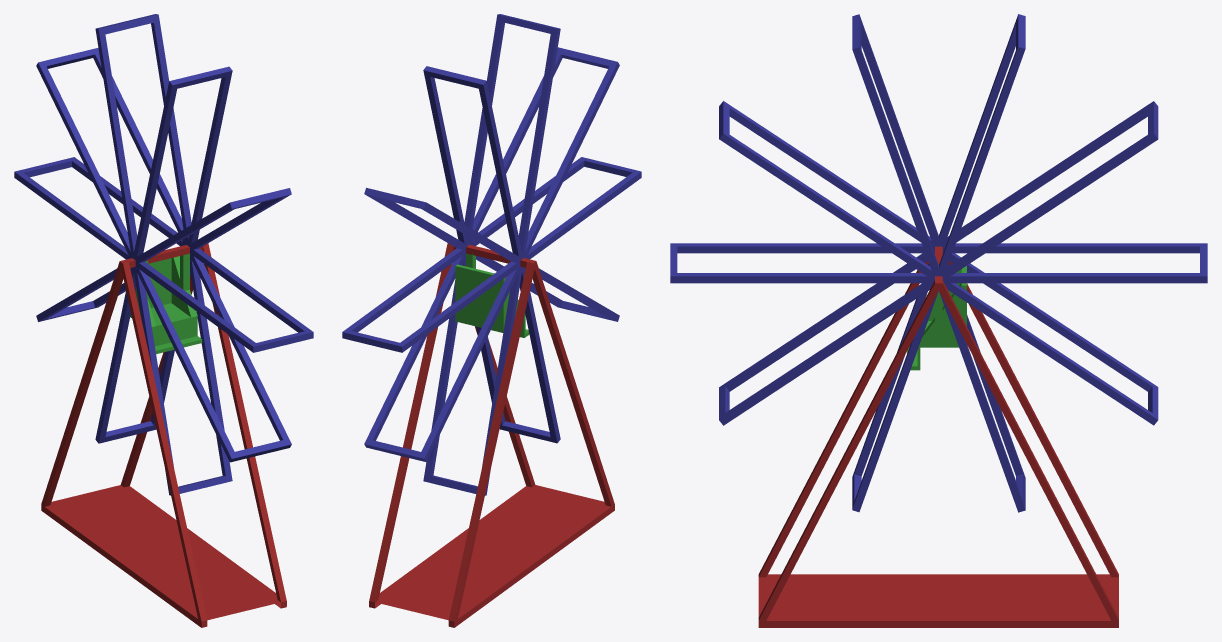
The model's file is ferris-wheel.obj.
3 views of the same model, side by side, from view 1: azimuth 30°, elevation 25°; view 2: azimuth 150°, elevation 25°; view 3: azimuth 270°, elevation 25° (orthographic). The views are drawn at different scales.
Visible parts, largest first — view 1: wheel, support, chair; view 2: wheel, support, chair; view 3: wheel, support, chair.
Part boxes in pixels (<box>): wheel: <box>14,14,313,495</box>; support: <box>41,243,286,627</box>; chair: <box>130,253,202,354</box>; wheel: <box>342,14,641,495</box>; support: <box>369,243,614,627</box>; chair: <box>455,252,529,337</box>; wheel: <box>670,14,1207,512</box>; support: <box>758,246,1118,627</box>; chair: <box>907,266,966,370</box>.
Size of the model in its own units: 29.17 by 167 by 142.
